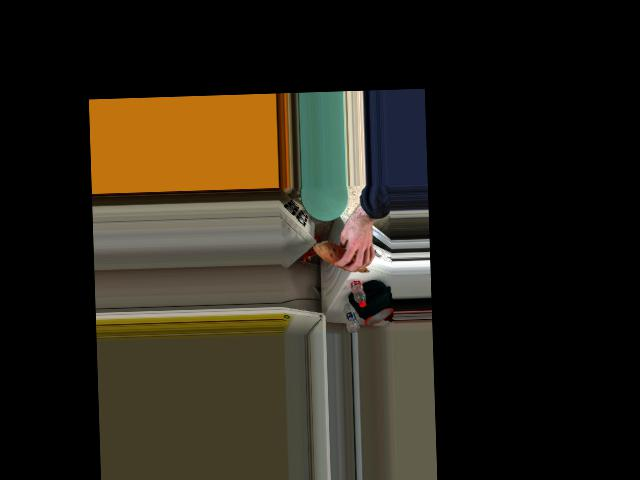sweet_potato: (315, 240, 372, 274)
